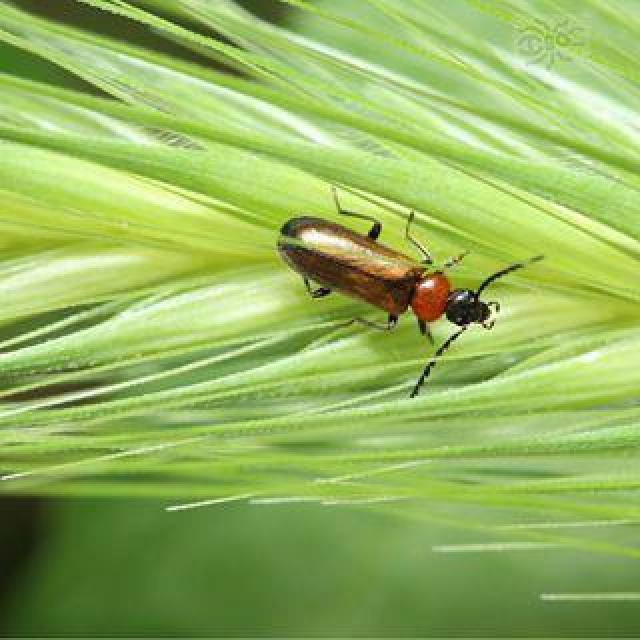BlisterBeetle-Adult-: (270, 187, 550, 398)
